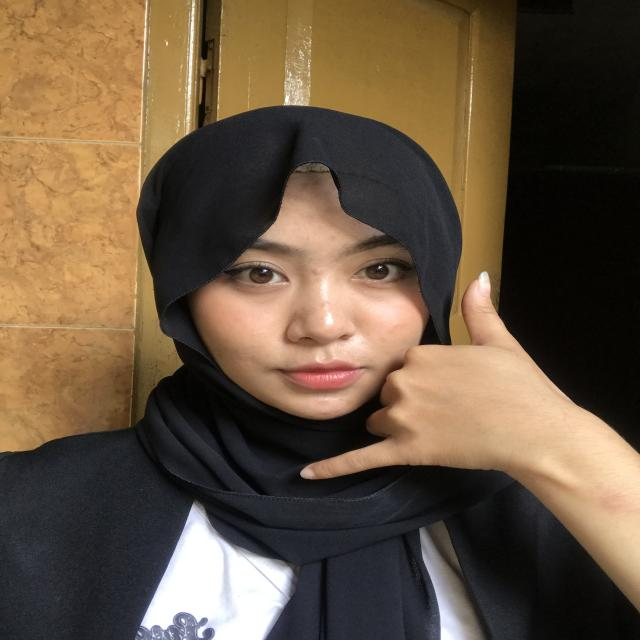telpon: (312, 267, 560, 516)
